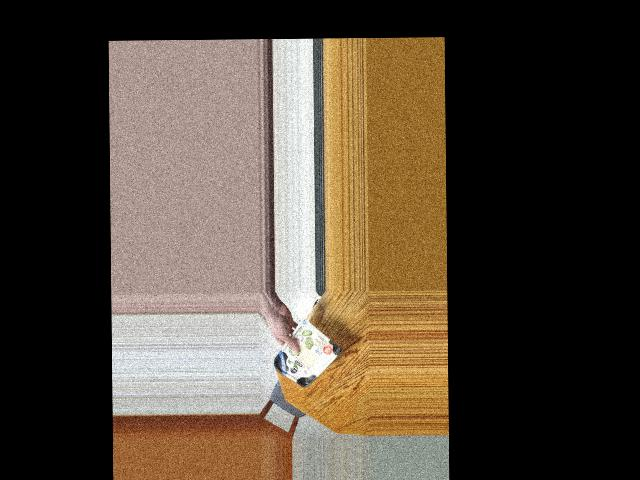cheese: (278, 330, 333, 388)
